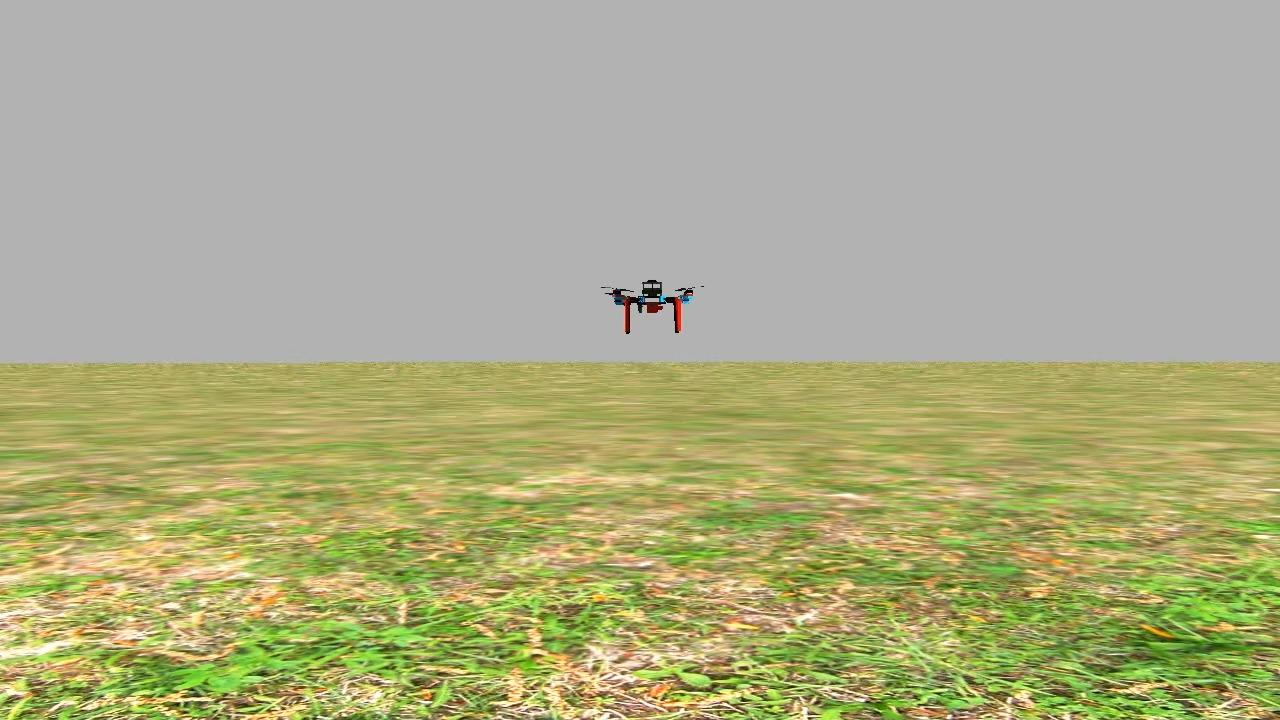UAV: (608, 273, 701, 343)
